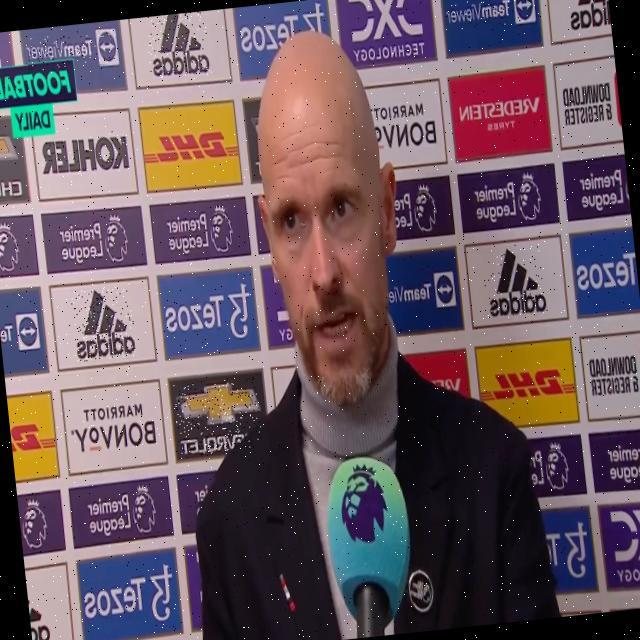Adidas: (69, 283, 137, 362), (481, 242, 548, 320), (145, 11, 212, 82)
Chevrolet: (172, 375, 263, 458)
Kohler: (38, 130, 130, 180)
TeamViewer: (25, 28, 119, 73), (443, 0, 535, 31)
